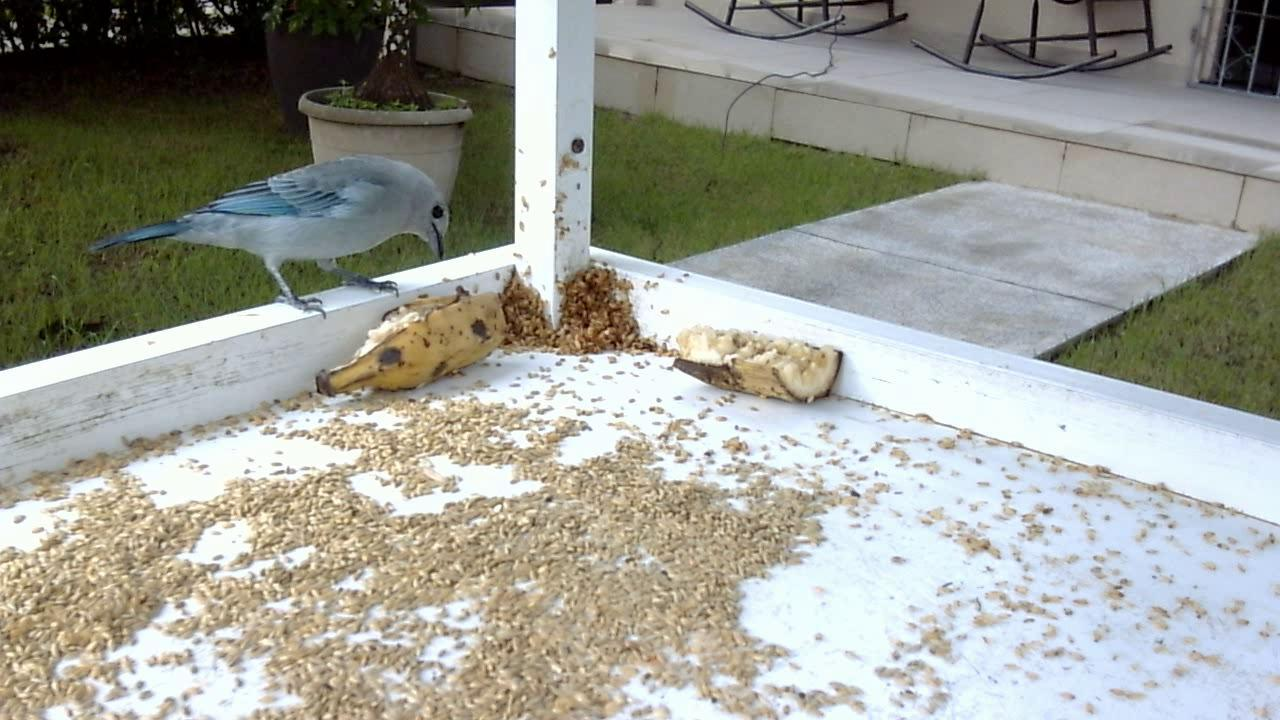sanhaco_da_amazonia: (88, 149, 446, 330)
